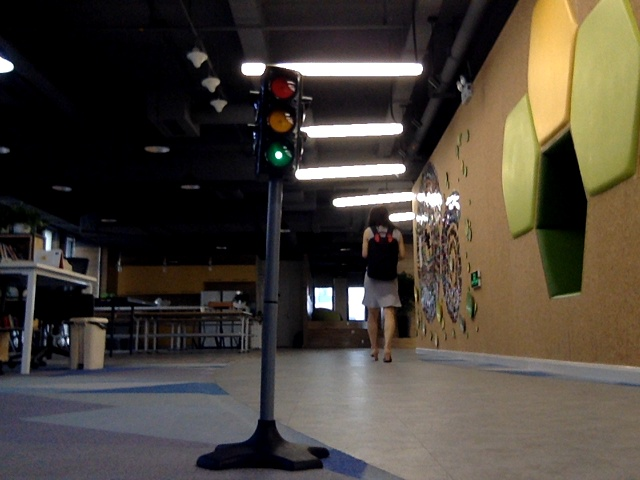green: (262, 72, 294, 170)
